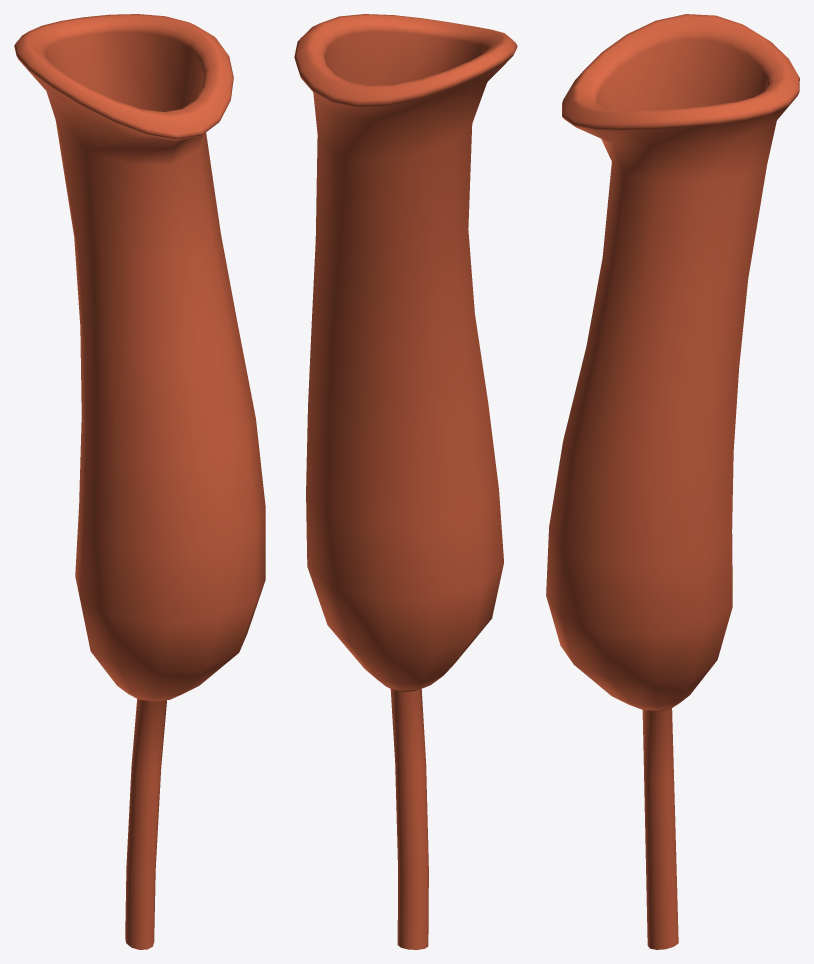
The model's file is MESH_Beach_Props_Plants_05.fbx.
The picture shows the model from 3 angles, left to right: view 1: azimuth 30°, elevation 25°; view 2: azimuth 150°, elevation 25°; view 3: azimuth 270°, elevation 25°; orthographic projection. The views are drawn at different scales.
Parts seen in each view (by area): view 1: MESH_Beach_Props_Plants_05; view 2: MESH_Beach_Props_Plants_05; view 3: MESH_Beach_Props_Plants_05.
Boxes of the visible parts, bbox=[...] form: MESH_Beach_Props_Plants_05: bbox=[14, 14, 265, 949]; MESH_Beach_Props_Plants_05: bbox=[294, 14, 517, 949]; MESH_Beach_Props_Plants_05: bbox=[546, 14, 799, 949].
Bounding box in the file's own units: 1.83 × 7.79 × 2.02.
